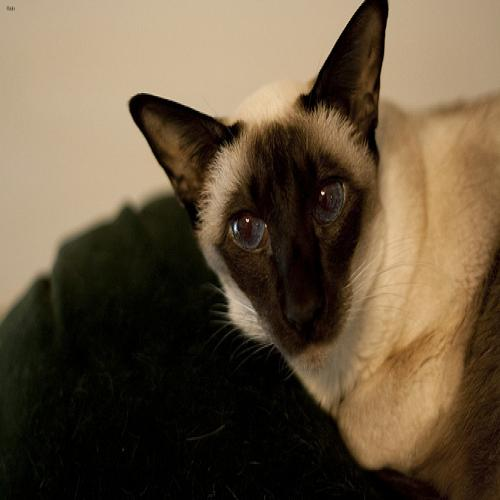siamese: (114, 1, 412, 397)
